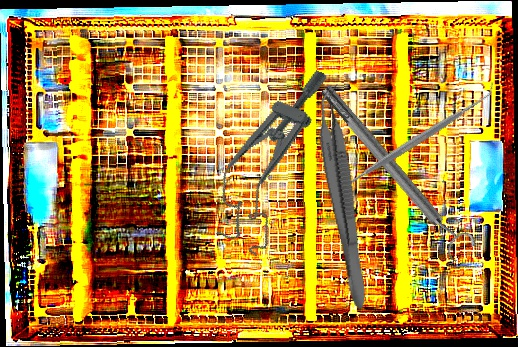Fixation Ring: (313, 76, 479, 265)
Spatula Surgical: (325, 80, 504, 203)
Speculum: (198, 53, 341, 259)
Tissue Forceps: (308, 83, 381, 311)
